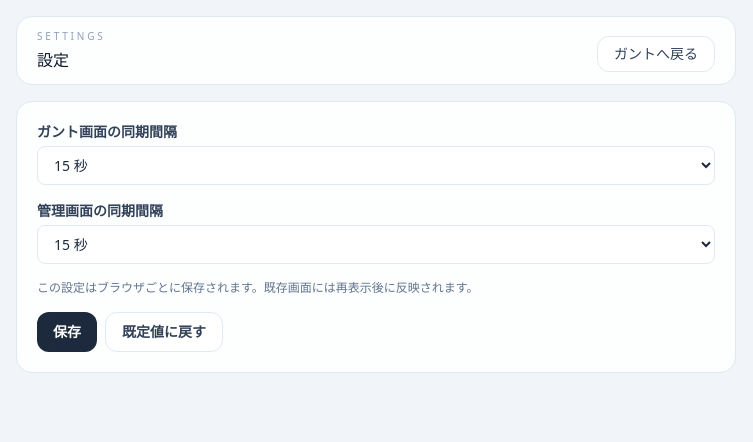
Test: /settings/+page.svelte › should show validation errors for unsupported interval values
Select "invalid" in the dropdown named "ganttPollingInterval" at [376, 166], box [37,146,715,185]
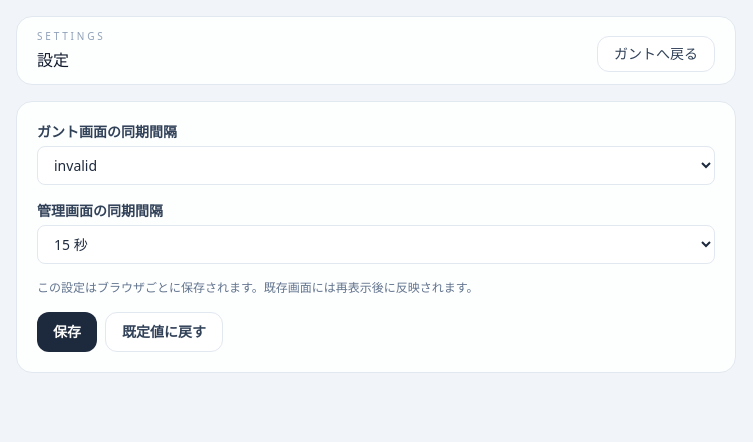
Click the button "保存".
click(67, 332)  # box [37,312,97,352]
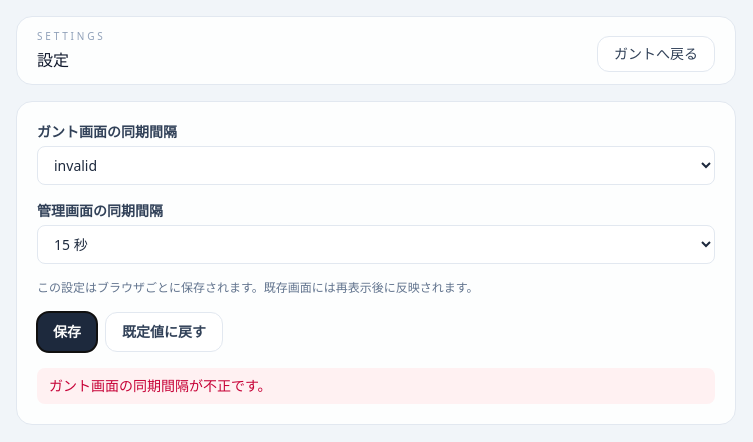
Expected: the text "ガント画面の同期間隔が不正です。" is shown, [37,368,715,404]
